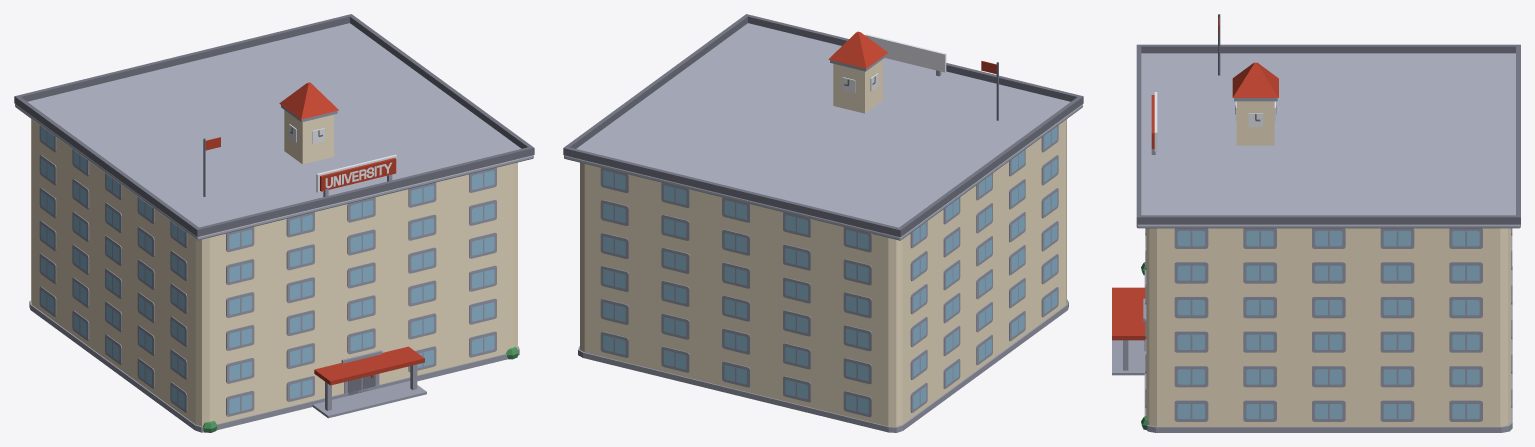
Rendered from university-3x3-6f.glb.
The picture shows the model from 3 angles, left to right: view 1: azimuth 30°, elevation 25°; view 2: azimuth 150°, elevation 25°; view 3: azimuth 270°, elevation 25°; orthographic projection. The views are drawn at different scales.
Parts seen in each view (by area): view 1: university-3x3-6f; view 2: university-3x3-6f; view 3: university-3x3-6f.
Part boxes in pixels (bbox=[...]): university-3x3-6f: bbox=[14, 14, 534, 432]; university-3x3-6f: bbox=[563, 14, 1083, 432]; university-3x3-6f: bbox=[1112, 14, 1520, 432].
Size of the model in its own units: 3 by 2.32 by 3.
1 material, 1 textured.
